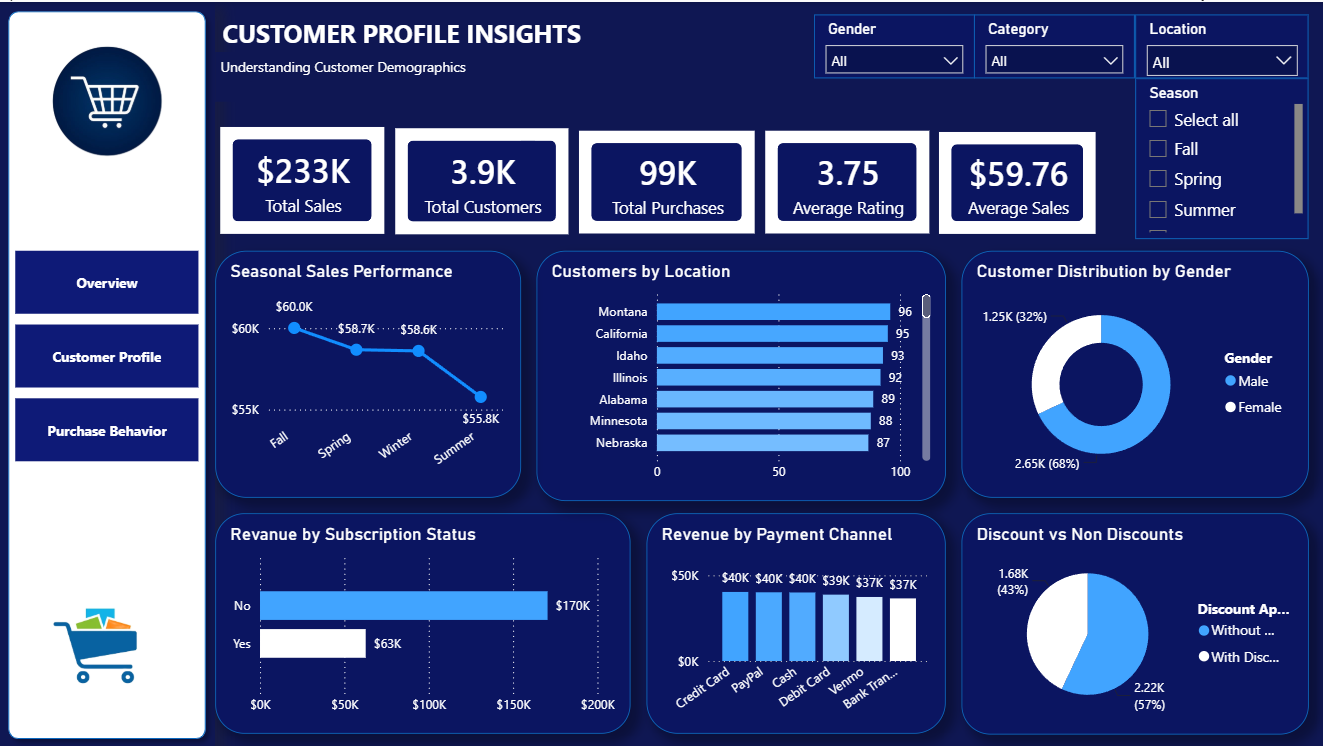

The page's visual inventory and layout, read from the dashboard file:
{"tool":"powerbi","page":{"name":" Customer Profile","canvas":[1280,720],"ordinal":1},"visuals":[{"type":"shape","box":[0,0,208.6,720.4],"z":0},{"type":"barChart","title":"Revanue by Subscription Status","fields":{"Category":["shopping_behavior_updated (1).Subscription Status"],"Y":["Sum(shopping_behavior_updated (1).Purchase Amount (USD))"]},"box":[208.6,494,400.7,212.7],"z":1000},{"type":"pieChart","title":"Discount vs Non Discounts","fields":{"Category":["shopping_behavior_updated (1).Discount Applied"],"Y":["CountNonNull(shopping_behavior_updated (1).Customer ID)"]},"box":[929.1,493.1,335.1,213.6],"z":2000},{"type":"clusteredBarChart","title":"Customers by Location ","fields":{"Category":["shopping_behavior_updated (1).Location"],"Y":["CountNonNull(shopping_behavior_updated (1).Customer ID)"]},"box":[518.7,240.1,395.2,241.5],"z":3000},{"type":"donutChart","title":"Customer Distribution by Gender","fields":{"Category":["shopping_behavior_updated (1).Gender"],"Y":["CountNonNull(shopping_behavior_updated (1).Customer ID)"]},"box":[929.1,240,335.1,238.5],"z":4000},{"type":"columnChart","title":"Revenue by Payment Channel","fields":{"Category":["shopping_behavior_updated (1).Payment Method"],"Y":["Sum(shopping_behavior_updated (1).Purchase Amount (USD))"]},"box":[625.5,493.7,288.6,212.4],"z":5000},{"type":"lineChart","title":"Seasonal Sales Performance","fields":{"Category":["shopping_behavior_updated (1).Season"],"Y":["Sum(shopping_behavior_updated (1).Purchase Amount (USD))"]},"box":[208.6,240.1,295,238.8],"z":6000},{"type":"textbox","box":[206.5,10.3,455.6,86.4],"z":7000},{"type":"image","box":[8.2,17.8,192.1,155.1],"z":8000},{"type":"image","box":[0,524.2,185.2,196.2],"z":9000},{"type":"slicer","fields":{"Values":["shopping_behavior_updated (1).Gender"]},"box":[786.3,12.3,155.1,61.7],"z":10000},{"type":"slicer","fields":{"Values":["shopping_behavior_updated (1).Category"]},"box":[941.3,12.3,155.1,61.7],"z":11000},{"type":"slicer","fields":{"Values":["shopping_behavior_updated (1).Season"]},"box":[1096.4,74.1,167.4,155.1],"z":12000},{"type":"textbox","box":[208.6,48,299.1,48],"z":13000},{"type":"cardVisual","title":"Total Sales","fields":{"Data":["Sum(shopping_behavior_updated (1).Purchase Amount (USD))"]},"box":[208.6,115.3,168.8,113.9],"z":14000},{"type":"cardVisual","title":"Total Sales","fields":{"Data":["CountNonNull(shopping_behavior_updated (1).Customer ID)"]},"box":[377.4,116.6,177,112.5],"z":15000},{"type":"cardVisual","title":"Total Sales","fields":{"Data":["Sum(shopping_behavior_updated (1).Previous Purchases)"]},"box":[554.4,119.4,179.8,109.8],"z":16000},{"type":"cardVisual","title":"Total Sales","fields":{"Data":["Avg(shopping_behavior_updated (1).Purchase Amount (USD))"]},"box":[902.9,120.8,161.9,108.4],"z":17000},{"type":"cardVisual","title":"Total Sales","fields":{"Data":["Avg(shopping_behavior_updated (1).Review Rating)"]},"box":[734.1,119.4,168.8,109.8],"z":18000},{"type":"slicer","fields":{"Values":["shopping_behavior_updated (1).Location"]},"box":[1096.4,12.3,167.4,61.7],"z":19000},{"type":"pageNavigator","box":[15.1,240.1,177,205.8],"z":20000}]}

Visuals, with their boxes in screenshot pixels (x1, y1, x2, y2), scaled from the page's 1280x720 canvas onto the 1323x746 screenshot:
shape: x1=0, y1=0, x2=216, y2=745
"Revanue by Subscription Status" barChart: x1=216, y1=512, x2=630, y2=732
"Discount vs Non Discounts" pieChart: x1=960, y1=511, x2=1307, y2=732
"Customers by Location " clusteredBarChart: x1=536, y1=249, x2=945, y2=499
"Customer Distribution by Gender" donutChart: x1=960, y1=249, x2=1307, y2=496
"Revenue by Payment Channel" columnChart: x1=647, y1=512, x2=945, y2=732
"Seasonal Sales Performance" lineChart: x1=216, y1=249, x2=521, y2=496
textbox: x1=213, y1=11, x2=684, y2=100
image: x1=8, y1=18, x2=207, y2=179
image: x1=0, y1=543, x2=191, y2=745
slicer - shopping_behavior_updated (1).Gender: x1=813, y1=13, x2=973, y2=77
slicer - shopping_behavior_updated (1).Category: x1=973, y1=13, x2=1133, y2=77
slicer - shopping_behavior_updated (1).Season: x1=1133, y1=77, x2=1306, y2=237
textbox: x1=216, y1=50, x2=525, y2=99
"Total Sales" cardVisual: x1=216, y1=119, x2=390, y2=237
"Total Sales" cardVisual: x1=390, y1=121, x2=573, y2=237
"Total Sales" cardVisual: x1=573, y1=124, x2=759, y2=237
"Total Sales" cardVisual: x1=933, y1=125, x2=1101, y2=237
"Total Sales" cardVisual: x1=759, y1=124, x2=933, y2=237
slicer - shopping_behavior_updated (1).Location: x1=1133, y1=13, x2=1306, y2=77
pageNavigator: x1=16, y1=249, x2=199, y2=462
